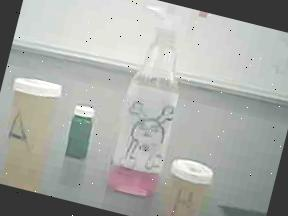Bottle A: (0, 67, 71, 193)
Bottle B: (158, 154, 217, 216)
Bottle C: (60, 101, 100, 166)
hazard: (95, 0, 208, 202)
